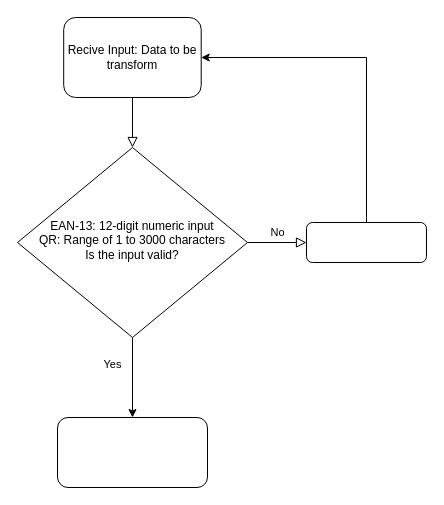
Some shapes in this 444 by 505 pixel diagram are drawn without their labels. The shapes that lost their labels are listed below. From the top down, each one's centre as x and y in pixels, then its label:
At (x=366, y=242): "Error Message".
At (x=132, y=452): "Start generation".
